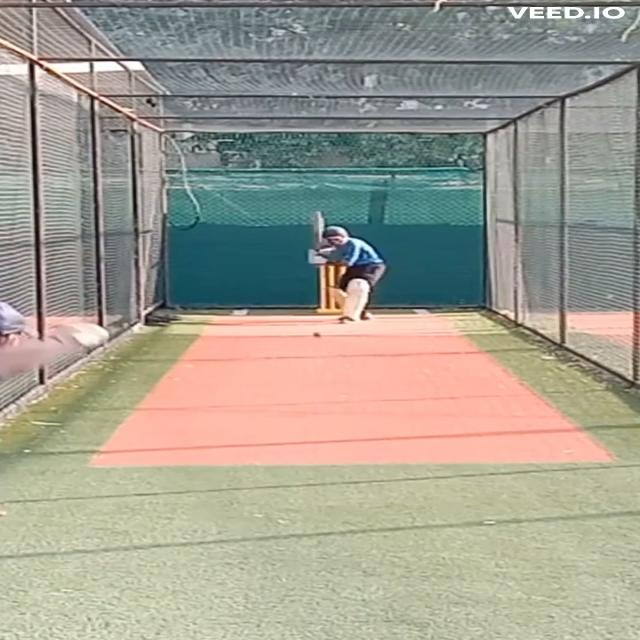ball: (310, 332, 324, 339)
stump: (316, 263, 348, 315)
